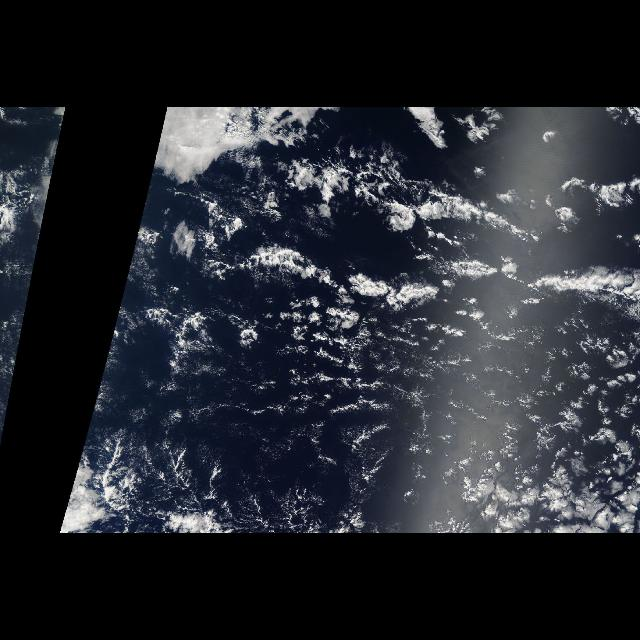Flower: (262, 292, 632, 528)
